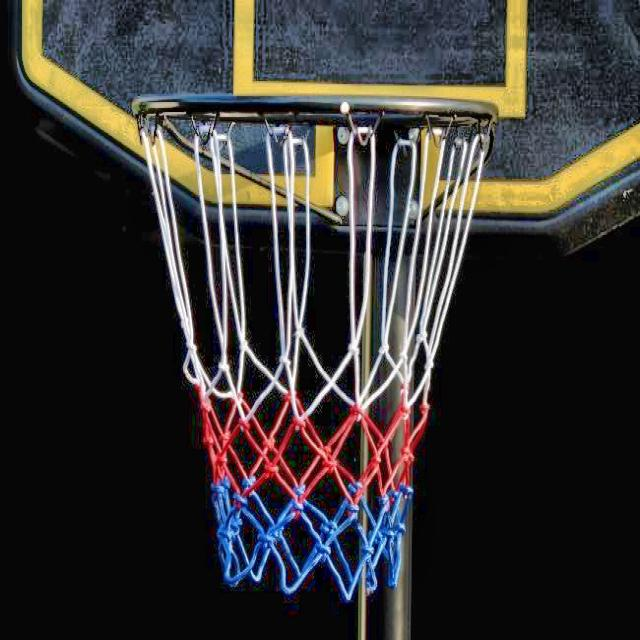rim: (130, 91, 500, 599)
